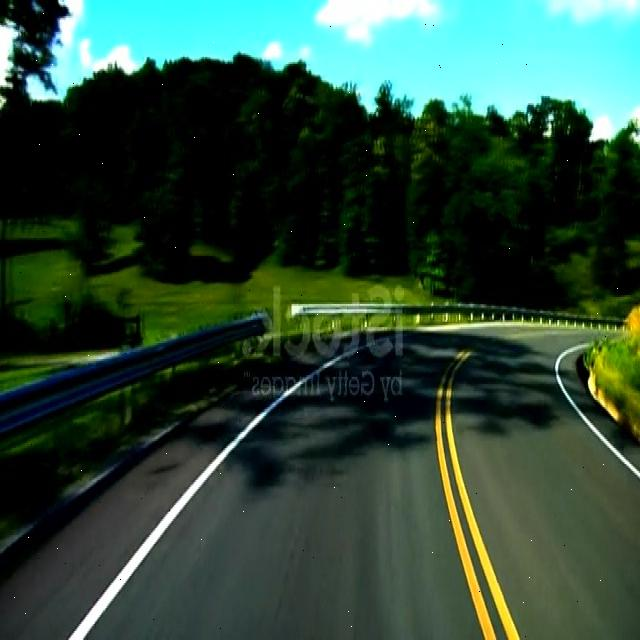lane: (437, 348, 519, 639)
road: (89, 328, 634, 634)
